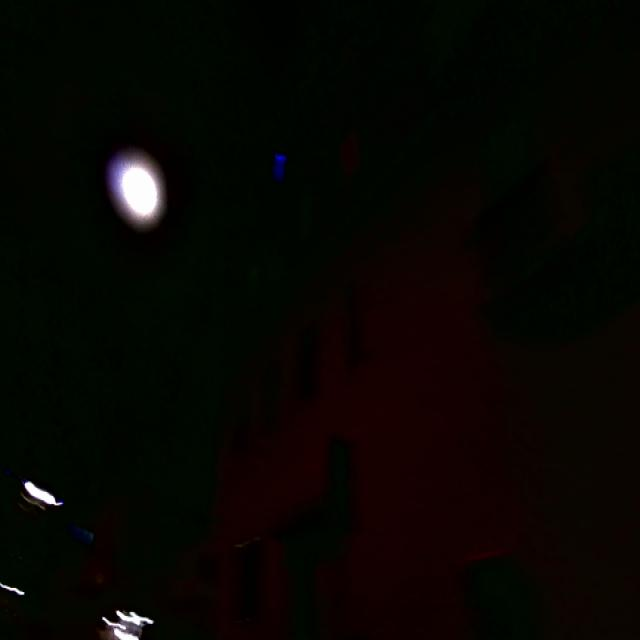lampione: (111, 146, 170, 237), (18, 463, 66, 526), (99, 591, 158, 640), (1, 560, 28, 619)
